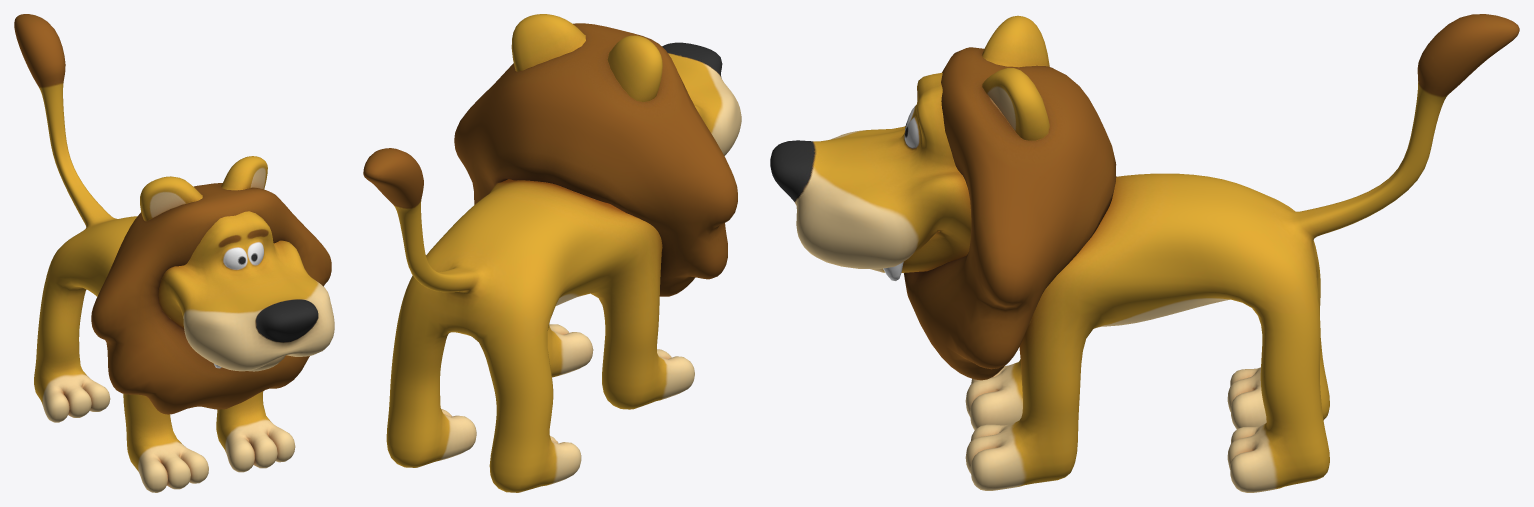
The model's file is cartoon_lion.glb.
3 renders of one model, left to right at view 1: azimuth 30°, elevation 25°; view 2: azimuth 150°, elevation 25°; view 3: azimuth 270°, elevation 25°, orthographic. The views are drawn at different scales.
Parts seen in each view (by area): view 1: CartoonCat.001, Cube.013; view 2: CartoonCat.001, Cube.013; view 3: CartoonCat.001, Cube.013.
Part boxes in pixels (x1=…): CartoonCat.001: x1=14, y1=14, x2=334, y2=492; Cube.013: x1=91, y1=183, x2=331, y2=414; CartoonCat.001: x1=363, y1=14, x2=741, y2=492; Cube.013: x1=454, y1=23, x2=737, y2=296; CartoonCat.001: x1=770, y1=14, x2=1519, y2=492; Cube.013: x1=904, y1=47, x2=1116, y2=380.
Bounding box in the file's own units: 3.69 × 4.85 × 7.6.
1 material, 1 textured.
